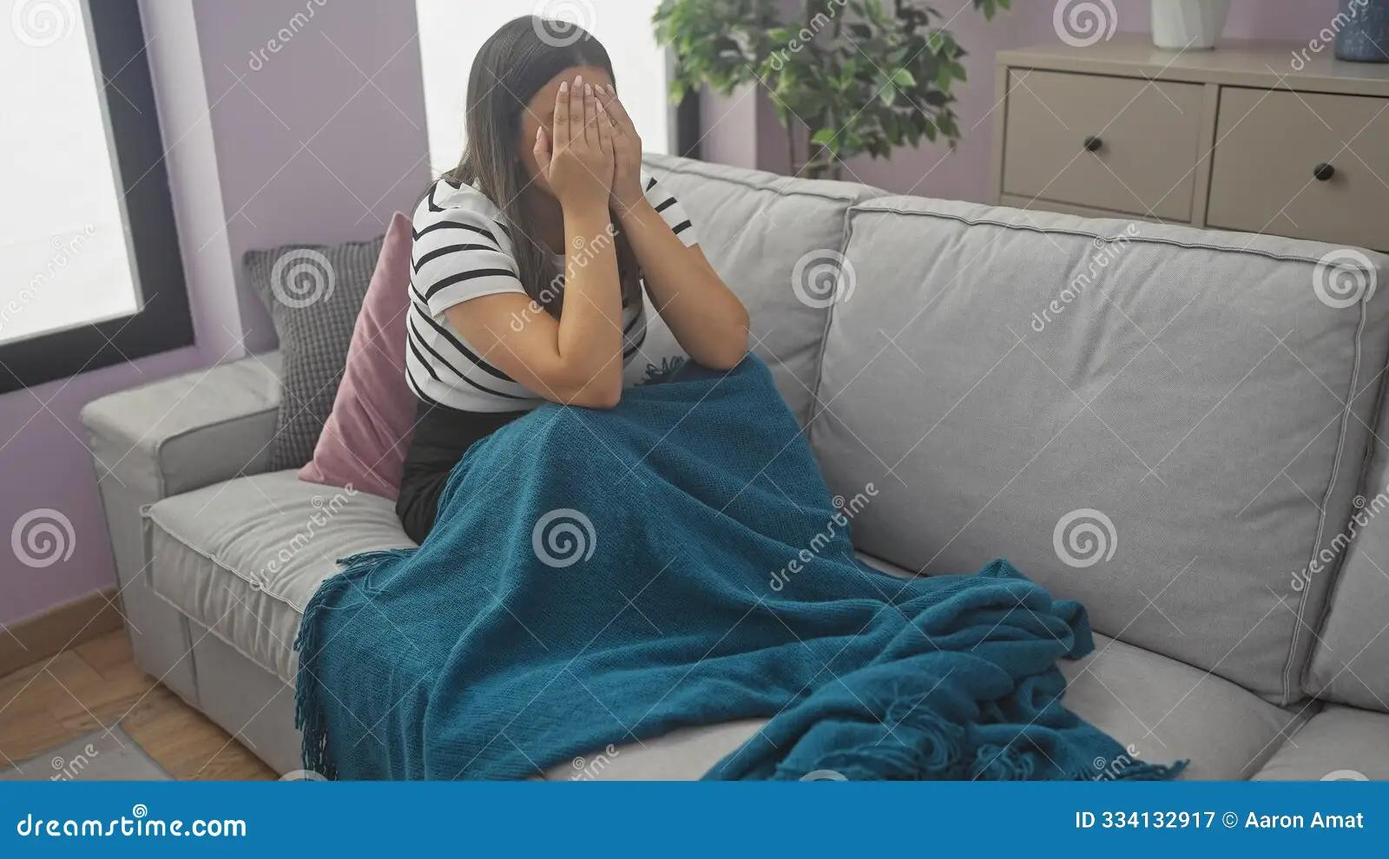blanket: (294, 333, 1192, 781)
short sleeve shirt: (400, 164, 705, 413)
trousers: (392, 391, 537, 549)
